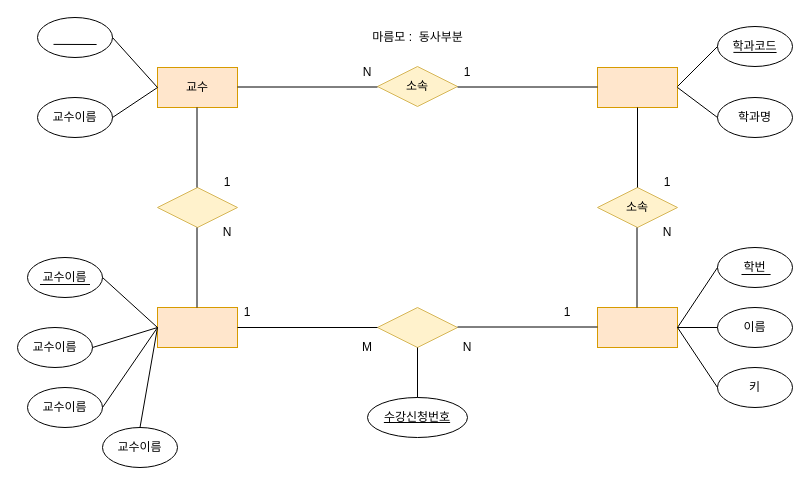
Image size: 810x485. Some labels were removed from this diagram. Each missing label, with the box of its shape:
강의: (156, 186, 238, 228)
과목: (156, 306, 238, 348)
교수코드: (36, 16, 112, 58)
수강: (376, 306, 458, 348)
학과: (596, 66, 678, 108)
학생: (596, 306, 678, 348)
